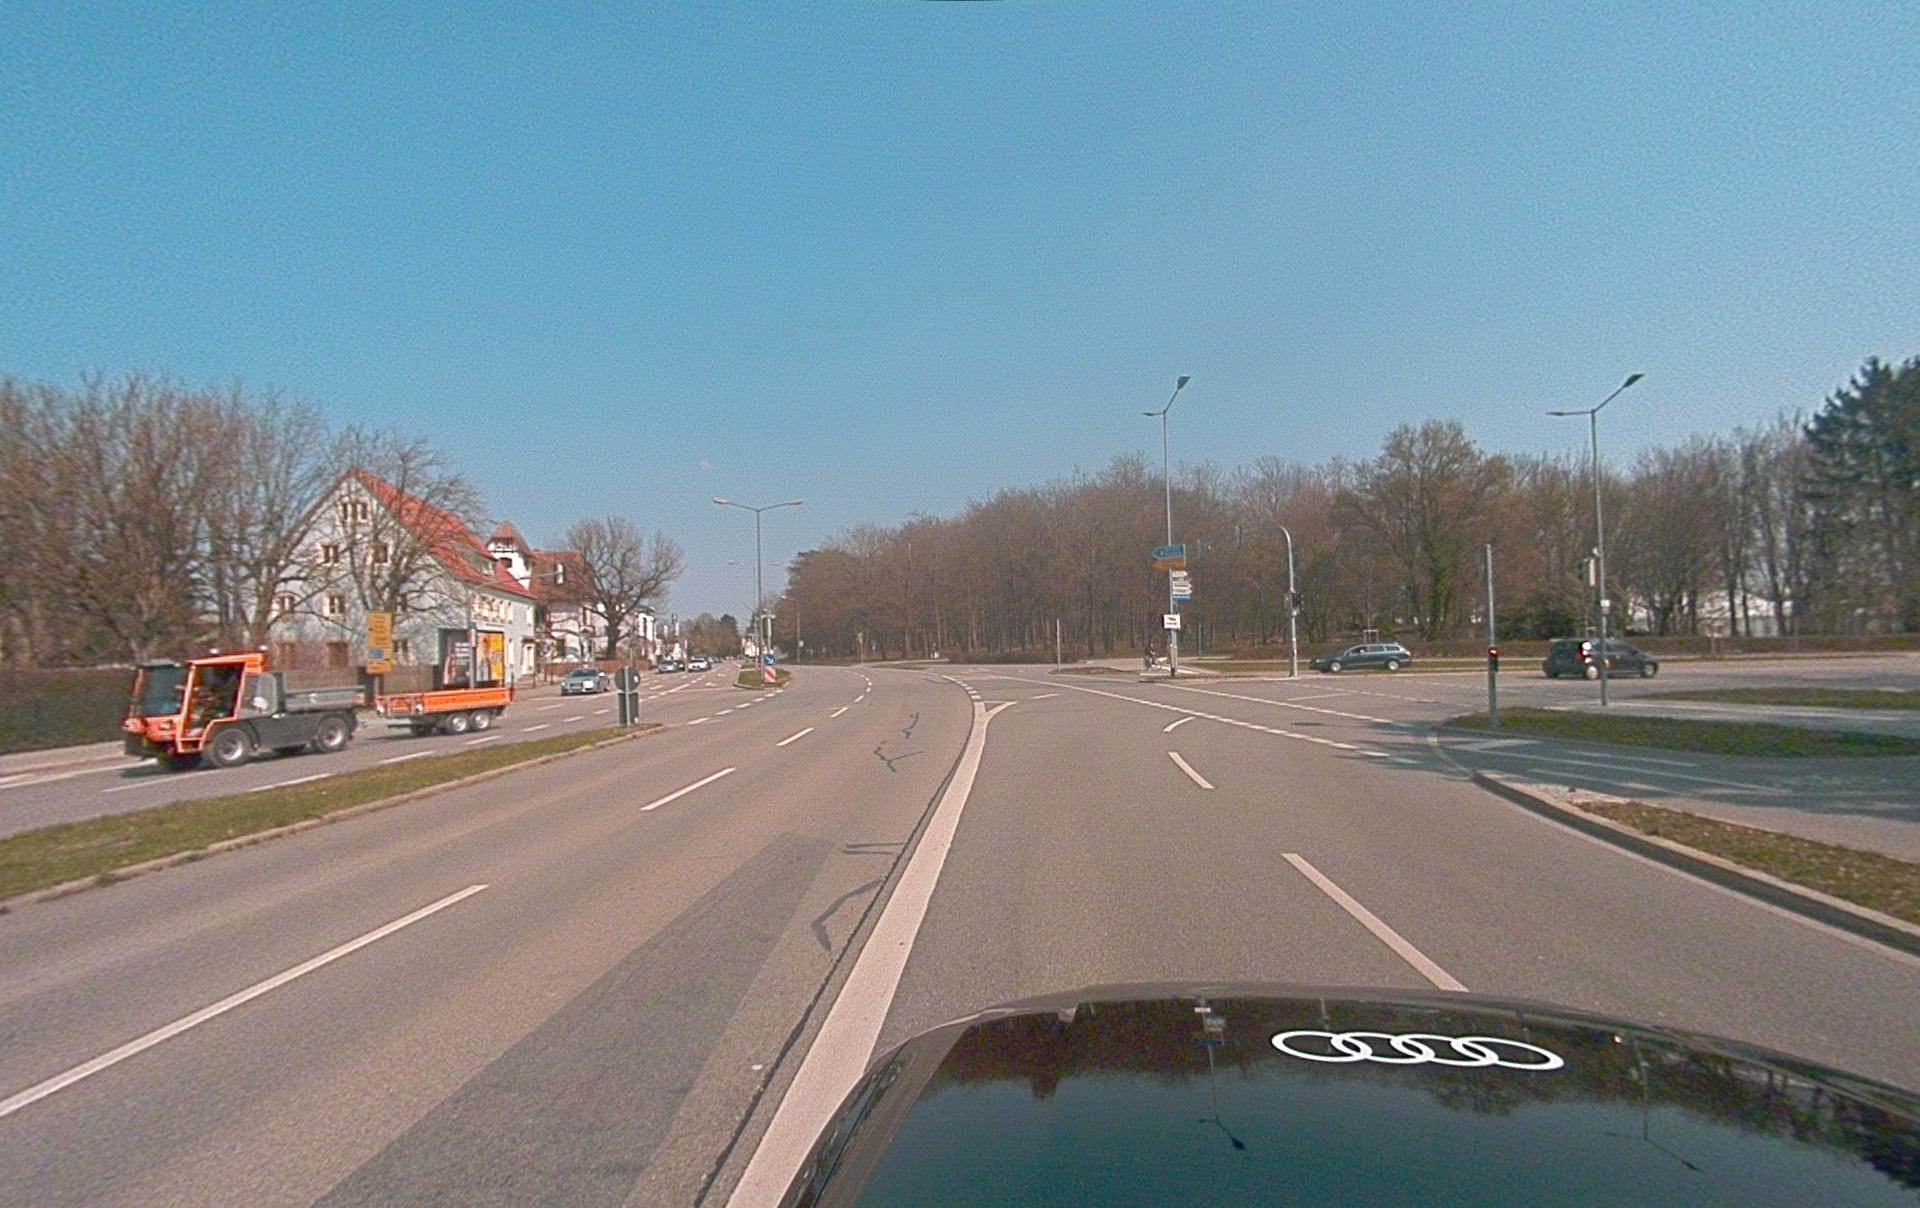car: (1542, 639, 1658, 679), (1309, 642, 1412, 674), (561, 667, 608, 694), (658, 658, 683, 672), (687, 658, 710, 671)
traffic sign: (1169, 571, 1192, 598), (1152, 543, 1185, 561), (1162, 614, 1181, 630)
